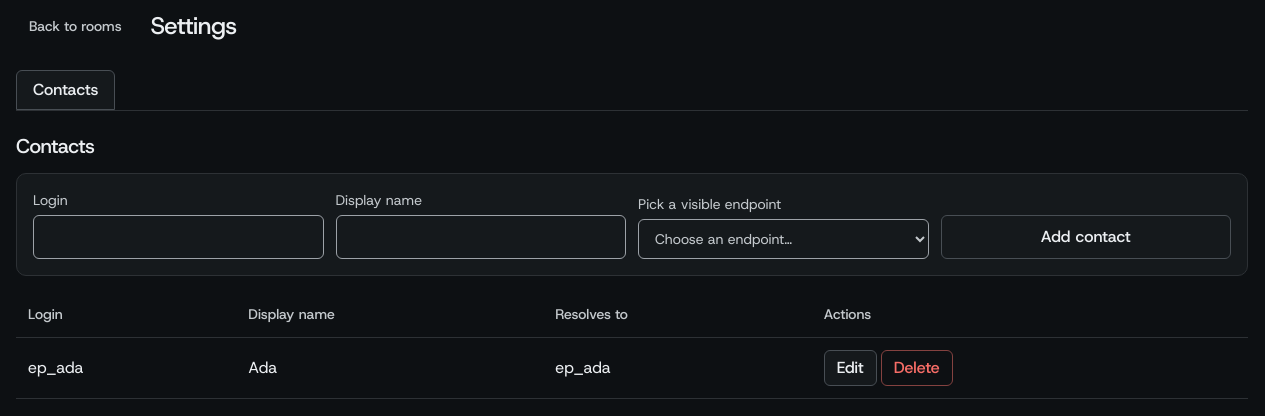
SettingsPage contacts › deletes after confirmation and leaves the contact when confirmation is cancelled
Click the button "Delete": (917, 368) [881, 350, 953, 386]
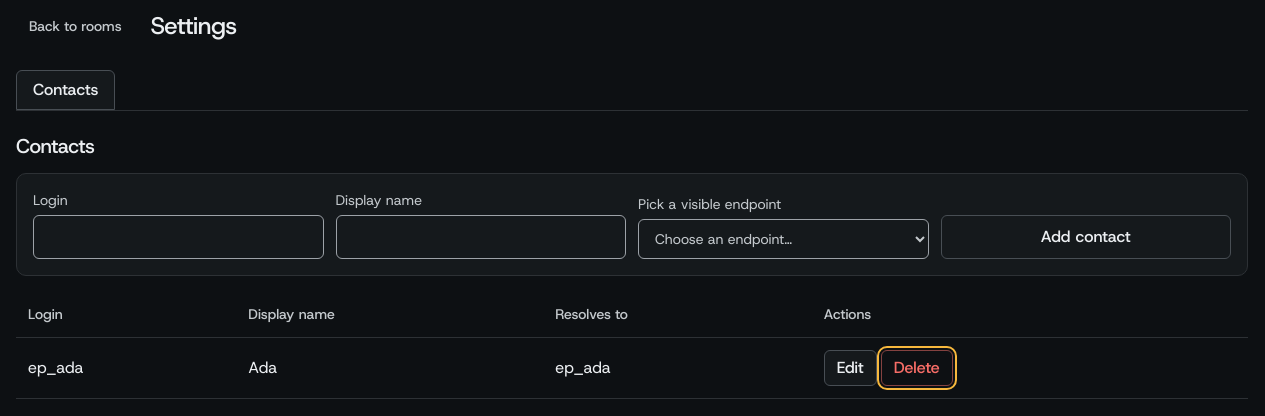
Expected: the row "ep_ada Ada ep_ada Edit Delete" is shown, [16, 338, 1248, 398]
Click the button "Delete": (917, 368) [881, 350, 953, 386]
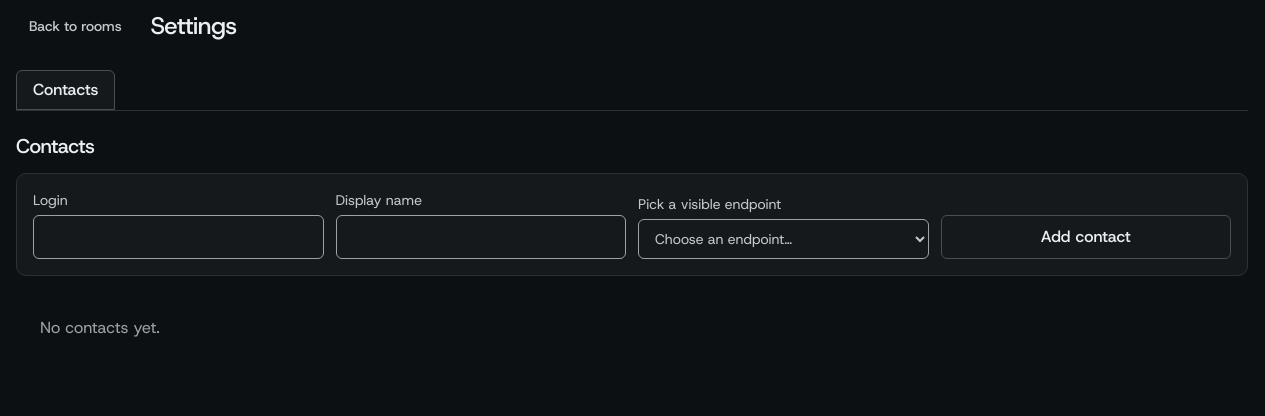
Expected: the text "No contacts yet." is shown, [40, 317, 160, 338]
